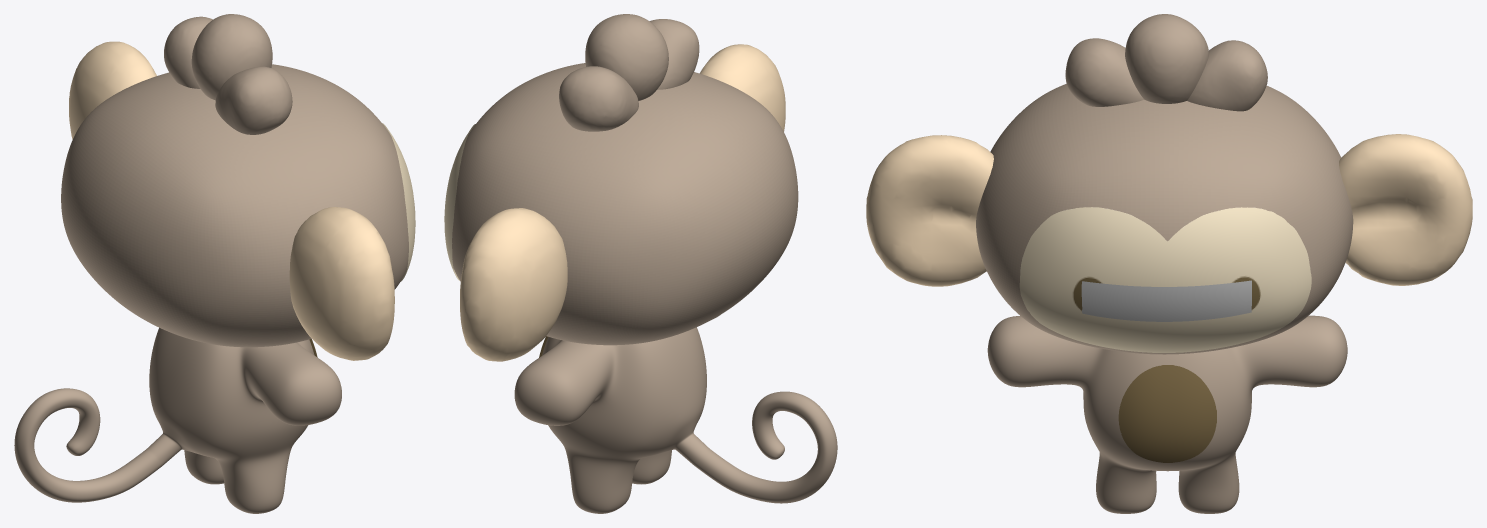
3 renders of one model, left to right at view 1: azimuth 30°, elevation 25°; view 2: azimuth 150°, elevation 25°; view 3: azimuth 270°, elevation 25°, orthographic. The views are drawn at different scales.
Parts seen in each view (by area): view 1: Cube.005, 몸통, 왼쪽귀.002, Cube.004, 오른쪽귀.002, Cube.006, Cube.007, 자산 3@2x; view 2: Cube.005, 몸통, 오른쪽귀.002, Cube.004, Cube.007, 왼쪽귀.002, Cube.006, 자산 3@2x; view 3: Cube.005, 자산 3@2x, 몸통, 오른쪽귀.002, 왼쪽귀.002, 자산 4@2x, 자산 2@2x, Cube.004, Cube.007, Cube.006.
Part boxes in pixels (bbox=[...]): Cube.005: bbox=[61, 64, 408, 347]; 몸통: bbox=[14, 327, 341, 513]; 왼쪽귀.002: bbox=[289, 207, 394, 360]; Cube.004: bbox=[191, 14, 272, 100]; 오른쪽귀.002: bbox=[69, 41, 156, 139]; Cube.006: bbox=[215, 66, 292, 134]; Cube.007: bbox=[164, 16, 212, 88]; 자산 3@2x: bbox=[382, 123, 415, 281]; Cube.005: bbox=[452, 63, 798, 345]; 몸통: bbox=[514, 315, 837, 513]; 오른쪽귀.002: bbox=[460, 208, 567, 361]; Cube.004: bbox=[585, 14, 668, 100]; Cube.007: bbox=[559, 66, 638, 131]; 왼쪽귀.002: bbox=[699, 44, 785, 131]; Cube.006: bbox=[649, 19, 699, 89]; 자산 3@2x: bbox=[444, 124, 475, 280]; Cube.005: bbox=[976, 84, 1353, 354]; 자산 3@2x: bbox=[1019, 207, 1311, 352]; 몸통: bbox=[987, 315, 1347, 513]; 오른쪽귀.002: bbox=[1339, 134, 1472, 285]; 왼쪽귀.002: bbox=[866, 135, 993, 286]; 자산 4@2x: bbox=[1118, 365, 1216, 462]; 자산 2@2x: bbox=[1081, 280, 1251, 321]; Cube.004: bbox=[1125, 14, 1208, 103]; Cube.007: bbox=[1187, 40, 1267, 111]; Cube.006: bbox=[1065, 38, 1143, 106].
Size of the model in its own units: 169 by 210 by 235.
